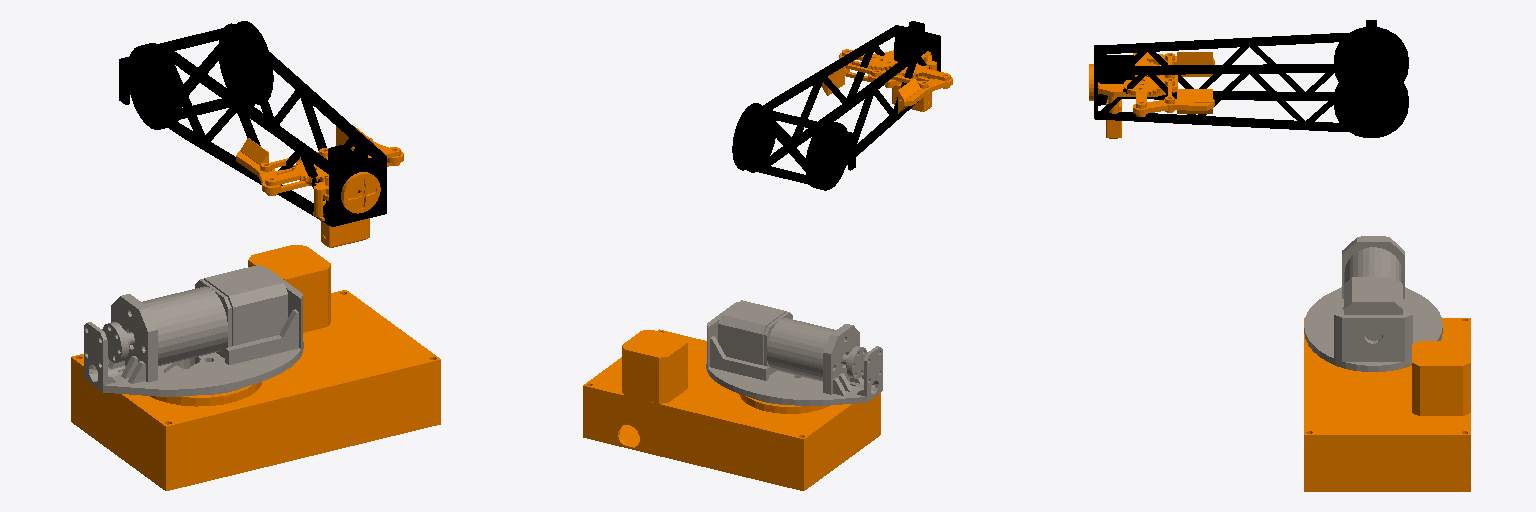
The robot description file, URDF, robot "manipulator_assembly_to_URDF_v3":
<?xml version="1.0" encoding="utf-8"?>
<!-- This URDF was automatically created by SolidWorks to URDF Exporter! Originally created by [author] ([email redacted]) 
     Commit Version: 1.6.0-4-g7f85cfe  Build Version: 1.6.7995.38578
     For more information, please see http://wiki.ros.org/sw_urdf_exporter -->
<robot
  name="manipulator_assembly_to_URDF_v3">
  <link
    name="base_link">
    <inertial>
      <origin
        xyz="0.0789173614759228 0.0365054375538782 0.000146943372671585"
        rpy="0 0 0" />
      <mass
        value="0.803055334573091" />
      <inertia
        ixx="0.00058252083724049"
        ixy="5.91238997535074E-06"
        ixz="2.22761804402796E-06"
        iyy="0.0012074631537419"
        iyz="3.76810492624622E-07"
        izz="0.00158848602901175" />
    </inertial>
    <visual>
      <origin
        xyz="0 0 0"
        rpy="0 0 0" />
      <geometry>
        <mesh
          filename="package://manipulator_assembly_to_URDF_v3/meshes/base_link.STL" />
      </geometry>
      <material
        name="">
        <color
          rgba="1 0.549019607843137 0 1" />
      </material>
    </visual>
    <collision>
      <origin
        xyz="0 0 0"
        rpy="0 0 0" />
      <geometry>
        <mesh
          filename="package://manipulator_assembly_to_URDF_v3/meshes/base_link.STL" />
      </geometry>
    </collision>
  </link>
  <link
    name="link_1">
    <inertial>
      <origin
        xyz="0.00584957744329571 4.50291616772621E-05 0.0298263419760327"
        rpy="0 0 0" />
      <mass
        value="1.29634781607792" />
      <inertia
        ixx="0.000364644624121157"
        ixy="6.1081827595908E-07"
        ixz="5.44707780658458E-06"
        iyy="0.00057710623926429"
        iyz="4.46425764716739E-07"
        izz="0.000606404758522164" />
    </inertial>
    <visual>
      <origin
        xyz="0 0 0"
        rpy="0 0 0" />
      <geometry>
        <mesh
          filename="package://manipulator_assembly_to_URDF_v3/meshes/link_1.STL" />
      </geometry>
      <material
        name="">
        <color
          rgba="0.647058823529412 0.619607843137255 0.588235294117647 1" />
      </material>
    </visual>
    <collision>
      <origin
        xyz="0 0 0"
        rpy="0 0 0" />
      <geometry>
        <mesh
          filename="package://manipulator_assembly_to_URDF_v3/meshes/link_1.STL" />
      </geometry>
    </collision>
  </link>
  <joint
    name="joint_1"
    type="continuous">
    <origin
      xyz="0 0 0"
      rpy="0 0 0" />
    <parent
      link="base_link" />
    <child
      link="link_1" />
    <axis
      xyz="0 0 1" />
  </joint>
  <link
    name="link_2">
    <inertial>
      <origin
        xyz="0.0624692345713514 -0.000212499756336727 -0.00438389058830384"
        rpy="0 0 0" />
      <mass
        value="0.656682402619019" />
      <inertia
        ixx="0.000302558003494536"
        ixy="-4.52379082874751E-08"
        ixz="4.70265576996236E-05"
        iyy="0.000505085462003595"
        iyz="-5.33717600884571E-08"
        izz="0.000395081060861996" />
    </inertial>
    <visual>
      <origin
        xyz="0 0 0"
        rpy="0 0 0" />
      <geometry>
        <mesh
          filename="package://manipulator_assembly_to_URDF_v3/meshes/link_2.STL" />
      </geometry>
      <material
        name="">
        <color
          rgba="0 0 0 1" />
      </material>
    </visual>
    <collision>
      <origin
        xyz="0 0 0"
        rpy="0 0 0" />
      <geometry>
        <mesh
          filename="package://manipulator_assembly_to_URDF_v3/meshes/link_2.STL" />
      </geometry>
    </collision>
  </link>
  <joint
    name="joint_2"
    type="continuous">
    <origin
      xyz="-0.00025 -0.0015763 0.030821"
      rpy="-3.1416 -1.5702 0" />
    <parent
      link="link_1" />
    <child
      link="link_2" />
    <axis
      xyz="0 0 1" />
  </joint>
  <link
    name="link_3">
    <inertial>
      <origin
        xyz="0.0595640388374039 -0.000801493795255903 -0.00158564852414743"
        rpy="0 0 0" />
      <mass
        value="0.0905552032988261" />
      <inertia
        ixx="8.42452666533344E-05"
        ixy="8.38734067730597E-07"
        ixz="-6.30767901595753E-06"
        iyy="0.000435612309074478"
        iyz="-6.73123410621827E-07"
        izz="0.000393286765843842" />
    </inertial>
    <visual>
      <origin
        xyz="0 0 0"
        rpy="0 0 0" />
      <geometry>
        <mesh
          filename="package://manipulator_assembly_to_URDF_v3/meshes/link_3.STL" />
      </geometry>
      <material
        name="">
        <color
          rgba="0 0 0 1" />
      </material>
    </visual>
    <collision>
      <origin
        xyz="0 0 0"
        rpy="0 0 0" />
      <geometry>
        <mesh
          filename="package://manipulator_assembly_to_URDF_v3/meshes/link_3.STL" />
      </geometry>
    </collision>
  </link>
  <joint
    name="joint_3"
    type="continuous">
    <origin
      xyz="0.17296 0 0.00014863"
      rpy="0.00058608 0 1.5708" />
    <parent
      link="link_2" />
    <child
      link="link_3" />
    <axis
      xyz="0 0 1" />
  </joint>
  <link
    name="gripper">
    <inertial>
      <origin
        xyz="-0.000963725610493814 0.00867649640617191 0.0259025975632264"
        rpy="0 0 0" />
      <mass
        value="0.0296543051300522" />
      <inertia
        ixx="4.7474489759306E-06"
        ixy="-3.61101084319971E-09"
        ixz="9.76002957092926E-10"
        iyy="7.05174610923127E-06"
        iyz="8.72386839008527E-08"
        izz="4.14902836862368E-06" />
    </inertial>
    <visual>
      <origin
        xyz="0 0 0"
        rpy="0 0 0" />
      <geometry>
        <mesh
          filename="package://manipulator_assembly_to_URDF_v3/meshes/gripper.STL" />
      </geometry>
      <material
        name="">
        <color
          rgba="1 0.549019607843137 0 1" />
      </material>
    </visual>
    <collision>
      <origin
        xyz="0 0 0"
        rpy="0 0 0" />
      <geometry>
        <mesh
          filename="package://manipulator_assembly_to_URDF_v3/meshes/gripper.STL" />
      </geometry>
    </collision>
  </link>
  <joint
    name="joint_4"
    type="continuous">
    <origin
      xyz="0.2032 0 0"
      rpy="0 -1.5708 0" />
    <parent
      link="link_3" />
    <child
      link="gripper" />
    <axis
      xyz="0 0 1" />
  </joint>
  <link
    name="left_finger">
    <inertial>
      <origin
        xyz="0 -0.00168229070355719 -0.00889168009611271"
        rpy="0 0 0" />
      <mass
        value="0.00362258079755188" />
      <inertia
        ixx="8.58500861755857E-07"
        ixy="-4.30692005937536E-22"
        ixz="-5.84151267204439E-22"
        iyy="6.03746320698698E-07"
        iyz="-3.66667120365105E-07"
        izz="3.41098994017298E-07" />
    </inertial>
    <visual>
      <origin
        xyz="0 0 0"
        rpy="0 0 0" />
      <geometry>
        <mesh
          filename="package://manipulator_assembly_to_URDF_v3/meshes/left_finger.STL" />
      </geometry>
      <material
        name="">
        <color
          rgba="1 0.549019607843137 0 1" />
      </material>
    </visual>
    <collision>
      <origin
        xyz="0 0 0"
        rpy="0 0 0" />
      <geometry>
        <mesh
          filename="package://manipulator_assembly_to_URDF_v3/meshes/left_finger.STL" />
      </geometry>
    </collision>
  </link>
  <joint
    name="lf_joint"
    type="prismatic">
    <origin
      xyz="0.032331 0 0.076026"
      rpy="0.78114 0 -1.5708" />
    <parent
      link="gripper" />
    <child
      link="left_finger" />
    <axis
      xyz="0 0 -1" />
    <limit
      lower="0"
      upper="0.055"
      effort="1000"
      velocity="1" />
  </joint>
  <link
    name="right_finger">
    <inertial>
      <origin
        xyz="0 0.00159783947927411 -0.00890724345358063"
        rpy="0 0 0" />
      <mass
        value="0.00362258079755187" />
      <inertia
        ixx="8.58500861755855E-07"
        ixy="-1.88135082166572E-23"
        ixz="6.61061167921008E-23"
        iyy="6.10681157654909E-07"
        iyz="3.64108869441144E-07"
        izz="3.34164157061085E-07" />
    </inertial>
    <visual>
      <origin
        xyz="0 0 0"
        rpy="0 0 0" />
      <geometry>
        <mesh
          filename="package://manipulator_assembly_to_URDF_v3/meshes/right_finger.STL" />
      </geometry>
      <material
        name="">
        <color
          rgba="1 0.549019607843137 0 1" />
      </material>
    </visual>
    <collision>
      <origin
        xyz="0 0 0"
        rpy="0 0 0" />
      <geometry>
        <mesh
          filename="package://manipulator_assembly_to_URDF_v3/meshes/right_finger.STL" />
      </geometry>
    </collision>
  </link>
  <joint
    name="rf_joint"
    type="prismatic">
    <origin
      xyz="-0.030888 0 0.075969"
      rpy="-0.78257 0 -1.5708" />
    <parent
      link="gripper" />
    <child
      link="right_finger" />
    <axis
      xyz="0 0.13832 -0.99039" />
    <limit
      lower="0"
      upper="0.055"
      effort="1000"
      velocity="1" />
  </joint>
</robot>

--- What the picture shows (computed from the rendered views, not written in the file) ---
Views: 3 orthographic renders of the robot side by side, from view 1: azimuth 30°, elevation 25°; view 2: azimuth 150°, elevation 25°; view 3: azimuth 270°, elevation 25°.
Robot: manipulator_assembly_to_URDF_v3 — 7 links, 6 joints (4 continuous, 2 prismatic); root link base_link; default pose: every joint at zero.
Visible links, largest first — view 1: base_link, link_1, link_3, gripper, right_finger; view 2: base_link, link_1, link_3, gripper, right_finger; view 3: base_link, link_3, link_1, gripper, left_finger, right_finger.
Boxes of the visible links, x1,y1,x2,y2 form: base_link: [71, 245, 440, 490]; link_1: [84, 265, 303, 396]; link_3: [119, 21, 386, 226]; gripper: [260, 138, 400, 247]; right_finger: [236, 138, 280, 193]; base_link: [583, 329, 880, 490]; link_1: [706, 300, 882, 405]; link_3: [732, 21, 940, 190]; gripper: [842, 49, 950, 111]; right_finger: [898, 77, 952, 113]; base_link: [1304, 318, 1470, 491]; link_3: [1094, 20, 1408, 137]; link_1: [1304, 236, 1442, 371]; gripper: [1089, 53, 1177, 138]; left_finger: [1133, 89, 1214, 114]; right_finger: [1133, 52, 1214, 76].
Bounding box of the posed robot: 0.2237 × 0.2748 × 0.2838 m (x, y, z).
6 mesh visuals loaded from 7 distinct referenced files (6 binary STL); not drawn: 1 (reference not matched to a file when rendering).